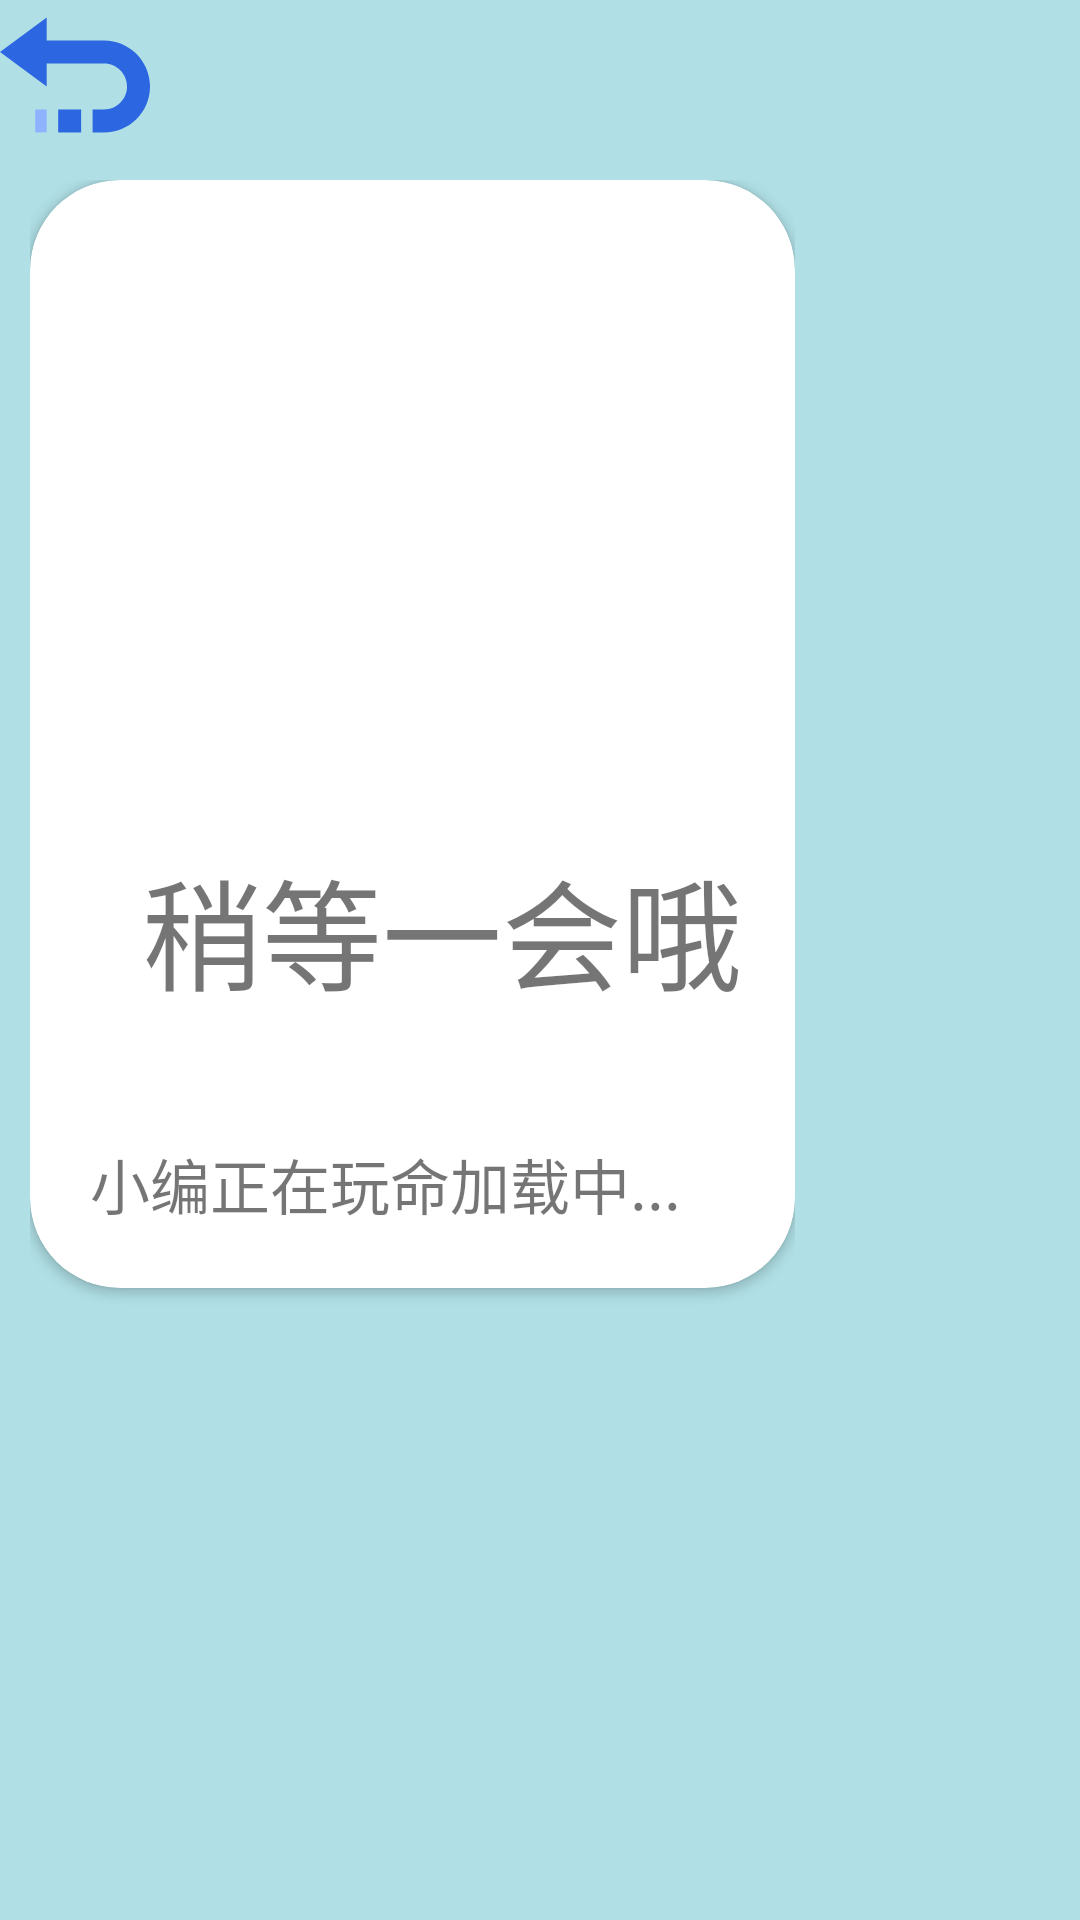

Named icons in this screenshot (1080px x 1920px) and their centers, point (x, y):
back: point (75, 75)
